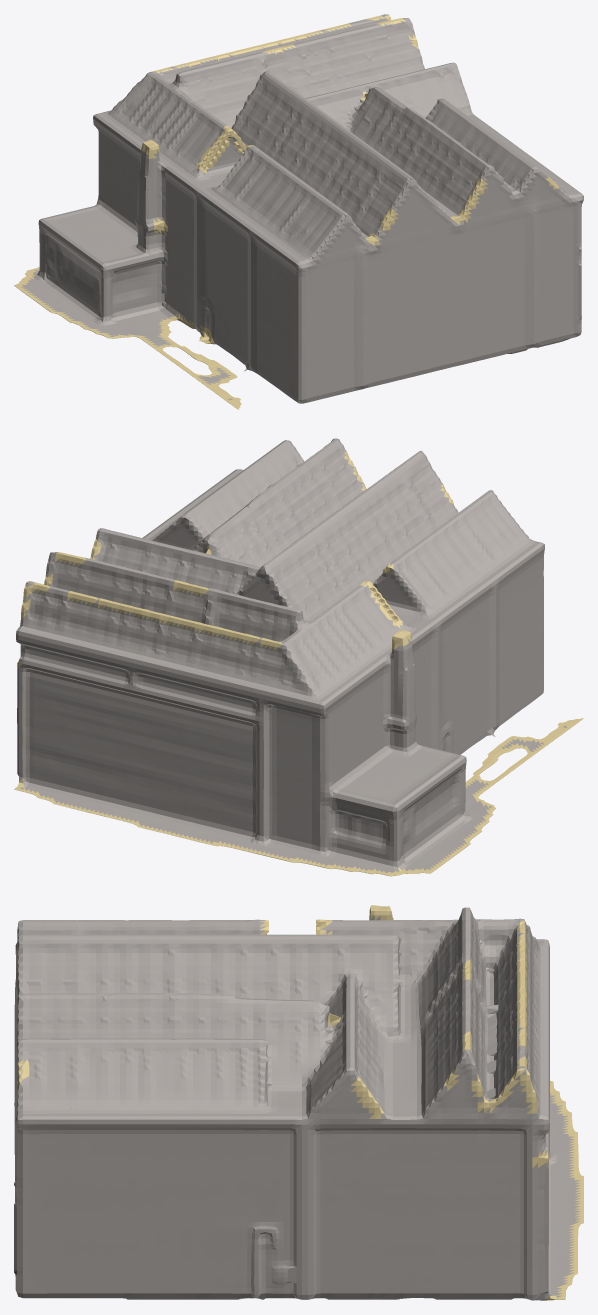
The model's file is bld_vehicle_works.glb.
The picture shows the model from 3 angles, top to bottom: view 1: azimuth 30°, elevation 25°; view 2: azimuth 150°, elevation 25°; view 3: azimuth 270°, elevation 25°; orthographic projection. The views are drawn at different scales.
Visible parts, largest first — view 1: Mesh_0.003; view 2: Mesh_0.003; view 3: Mesh_0.003.
Part boxes in pixels (x1=…): Mesh_0.003: x1=14, y1=14, x2=583, y2=409; Mesh_0.003: x1=14, y1=438, x2=583, y2=876; Mesh_0.003: x1=14, y1=905, x2=583, y2=1300.
Size of the model in its own units: 5.9 by 3.15 by 6.
